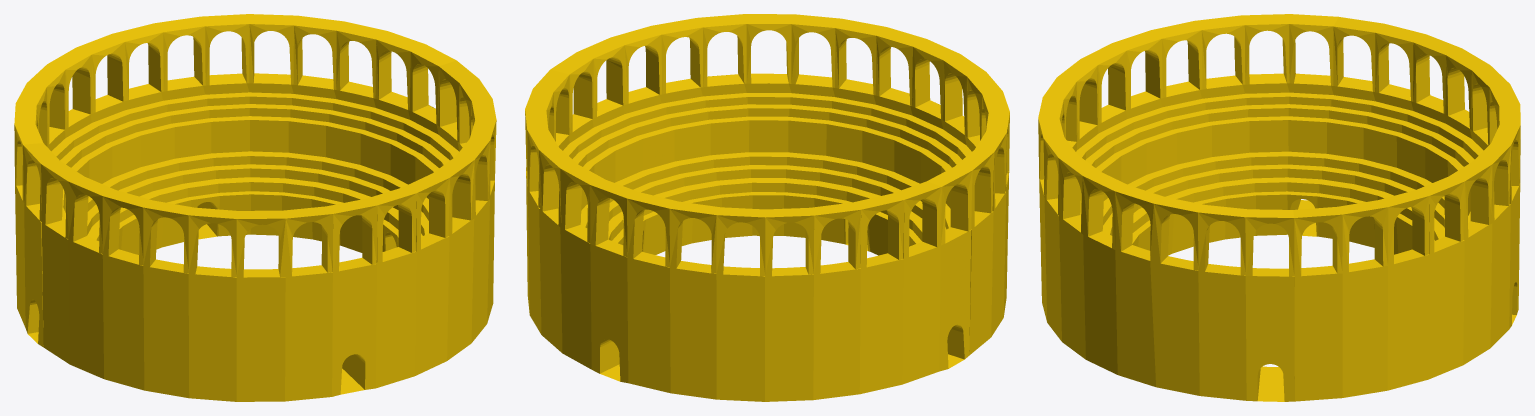
Rendered from colloseum.fbx.
3 views of the same model, side by side, from view 1: azimuth 30°, elevation 25°; view 2: azimuth 150°, elevation 25°; view 3: azimuth 270°, elevation 25° (orthographic).
Parts seen in each view (by area): view 1: Cube; view 2: Cube; view 3: Cube.
Boxes of the visible parts, x1,y1,x2,y2 form: Cube: (14,14,496,401); Cube: (525,14,1009,401); Cube: (1038,14,1520,401).
Bounding box in the file's own units: 923 × 393 × 922.
